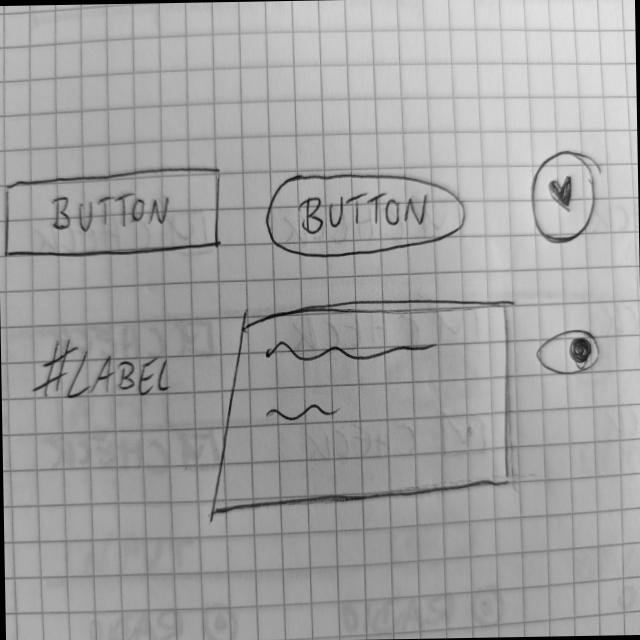button: (0, 160, 226, 261), (259, 166, 468, 260)
icon-button: (528, 145, 600, 248)
label: (31, 332, 178, 405)
textarea: (203, 294, 514, 520)
toggle: (534, 324, 604, 376)
